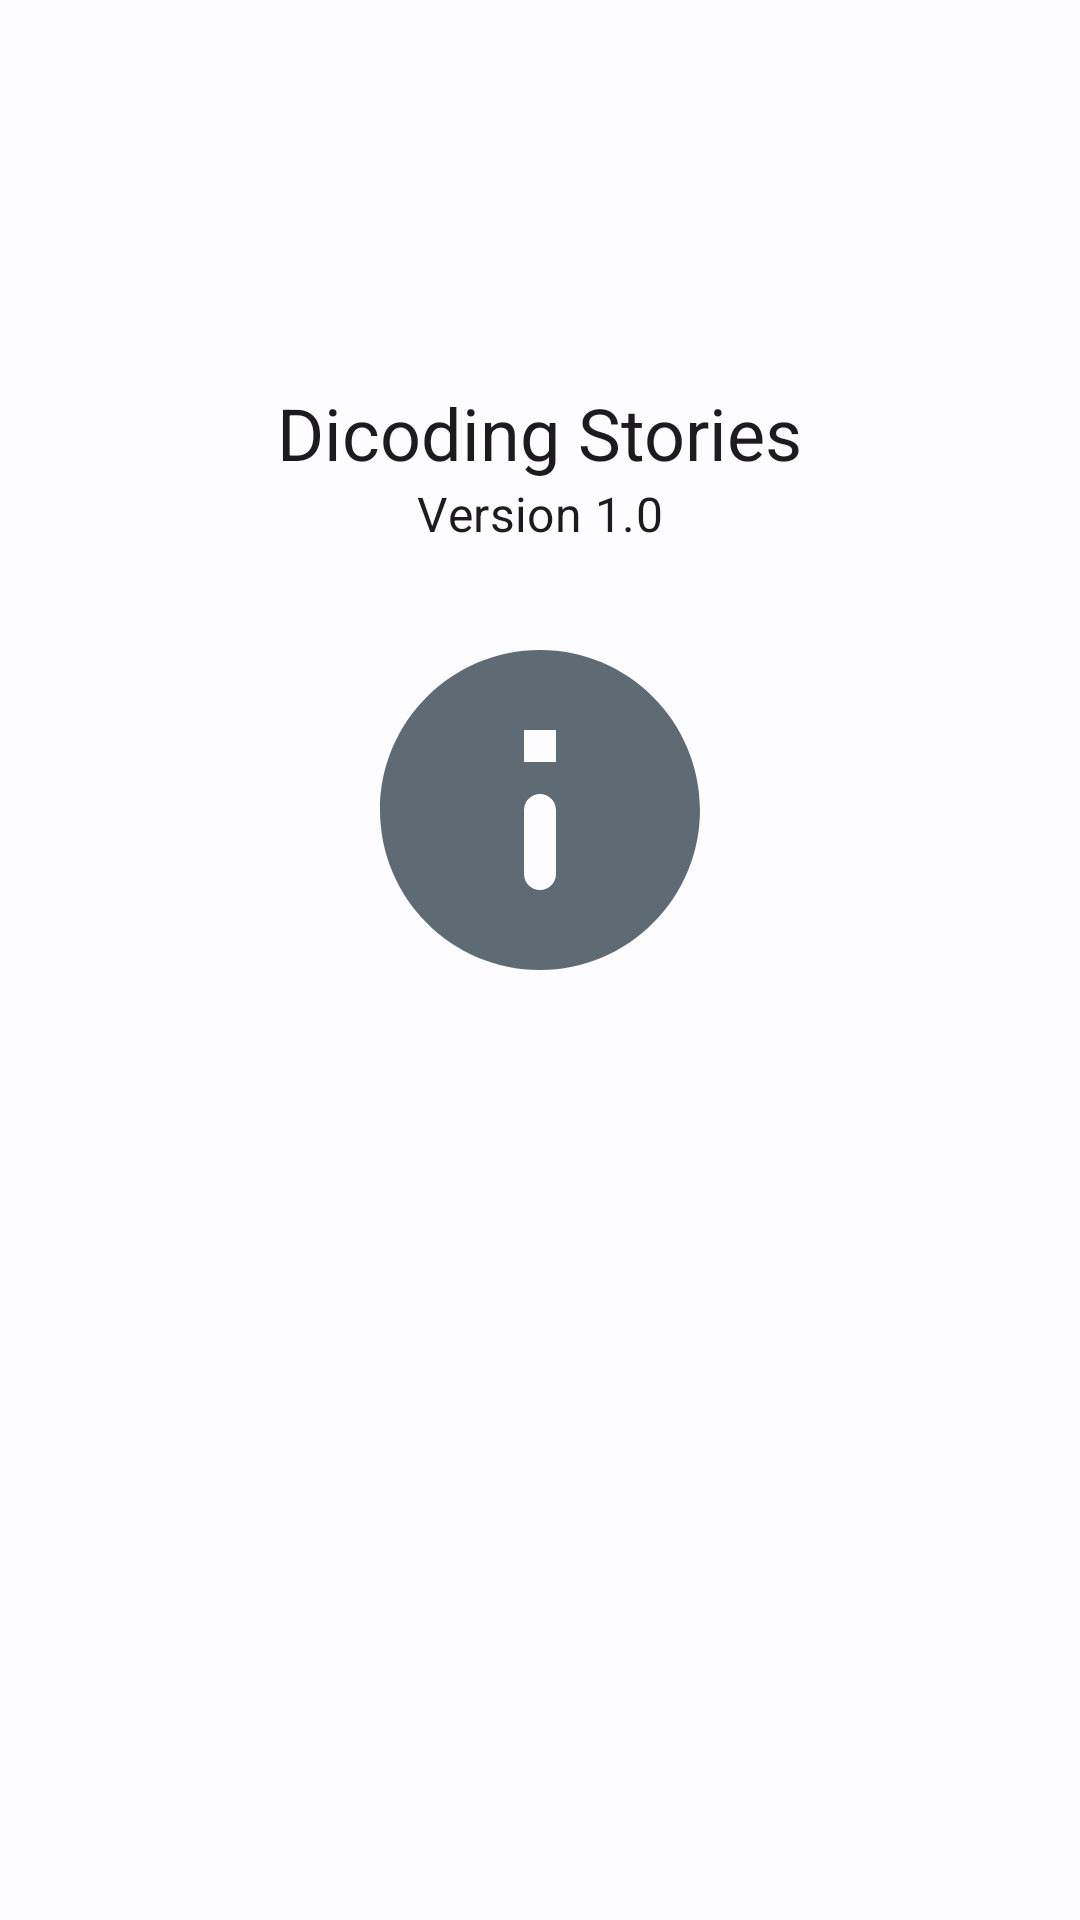

Icon bounding boxes for this 1080px×1920px phone screenshot, format [left=x1, top=y1, right=x2, bottom=y2]:
about: [left=380, top=650, right=700, bottom=970]
